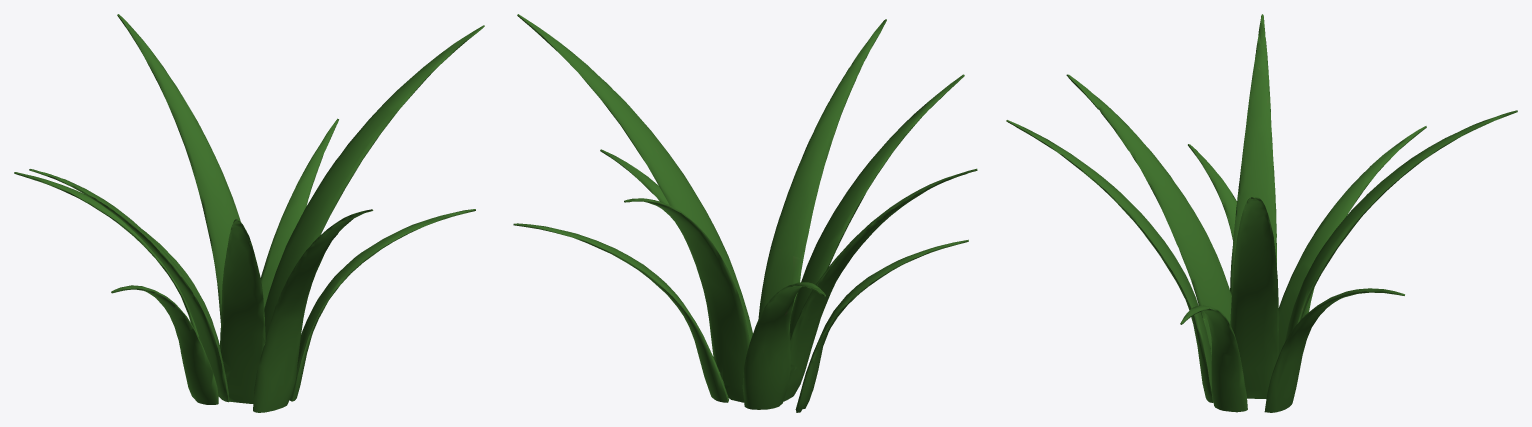
File: meadow-grass-model.glb
The picture shows the model from 3 angles, left to right: view 1: azimuth 30°, elevation 25°; view 2: azimuth 150°, elevation 25°; view 3: azimuth 270°, elevation 25°; orthographic projection. The views are drawn at different scales.
Parts seen in each view (by area): view 1: meadow-grass.001; view 2: meadow-grass.001; view 3: meadow-grass.001.
Boxes of the visible parts, x1,y1,x2,y2 form: meadow-grass.001: (14, 14, 484, 412); meadow-grass.001: (513, 14, 977, 412); meadow-grass.001: (1006, 14, 1517, 412).
Bounding box in the file's own units: 0.7222 × 0.4772 × 0.7064.
Materials: 1 (1 with a texture image).
